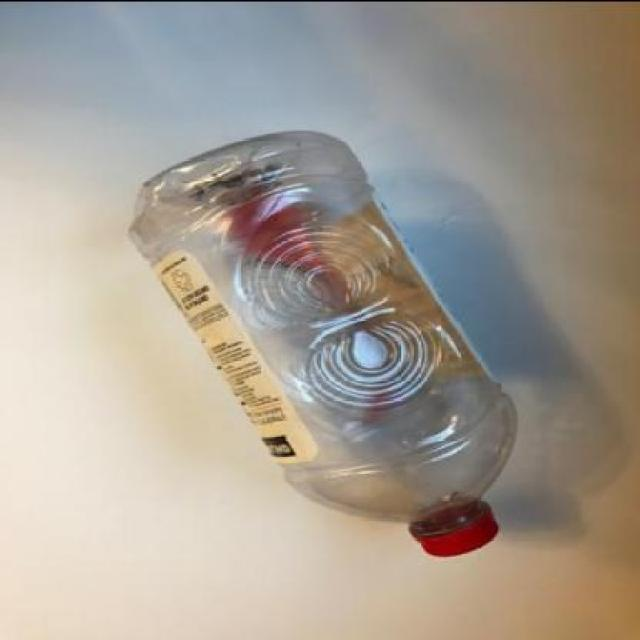PLASTIC: (129, 129, 517, 557), (412, 500, 501, 558)
